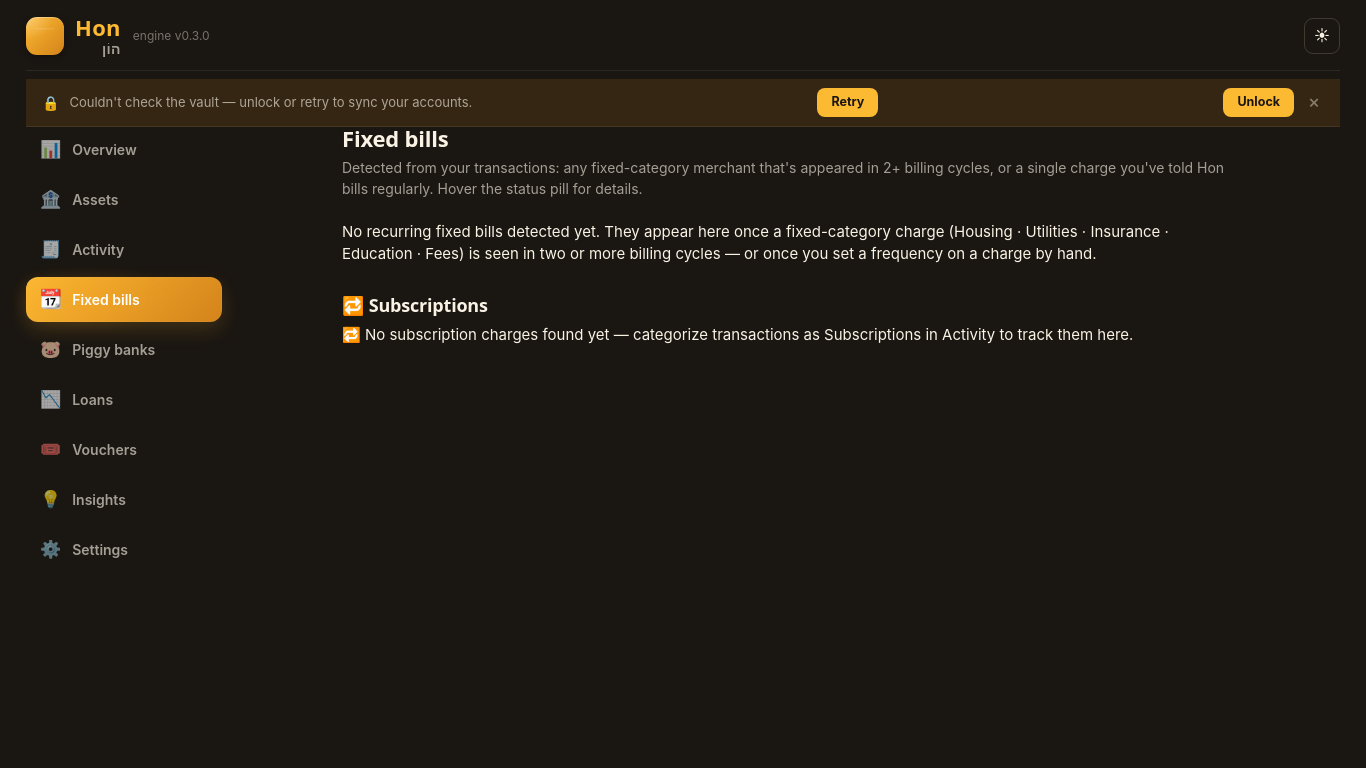
App — tab routing › switches to the Insights tab on click
Click the tab "💡 Insights": click(124, 499) [26, 477, 222, 522]
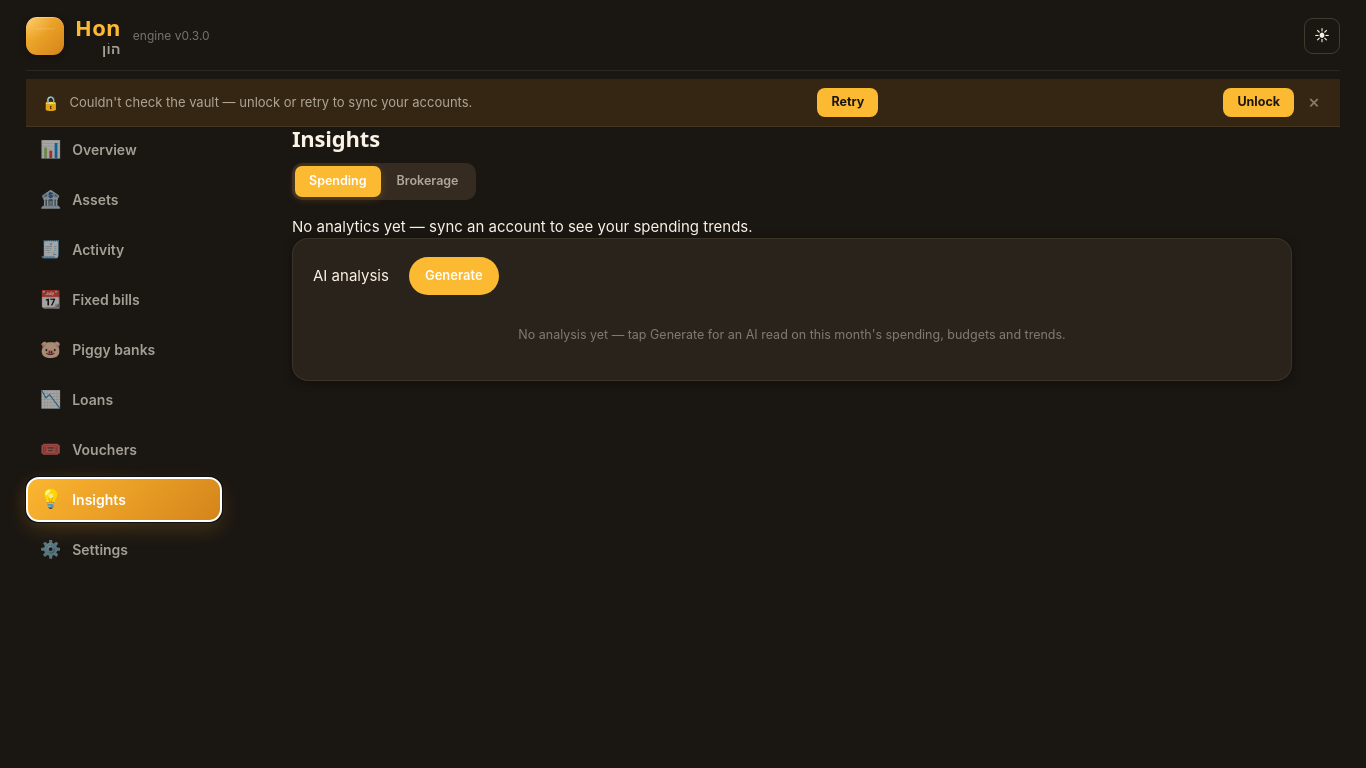
Expected: the heading "Insights" is shown, [292, 123, 380, 153]
